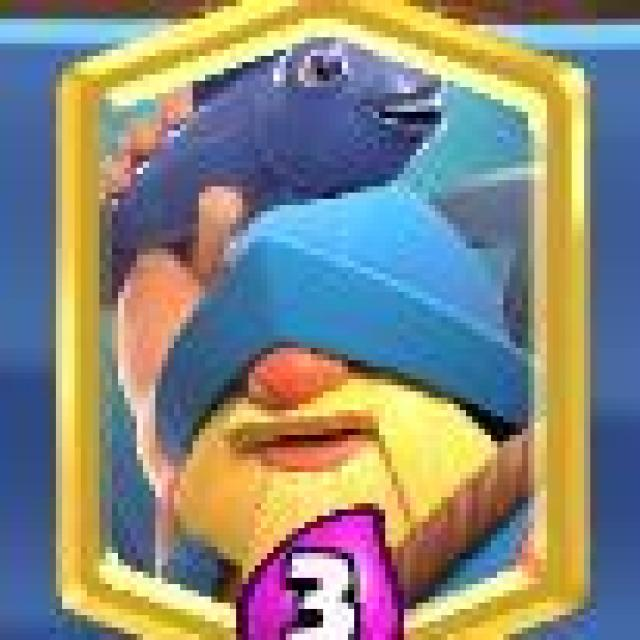Fisherman: (55, 1, 595, 640)
